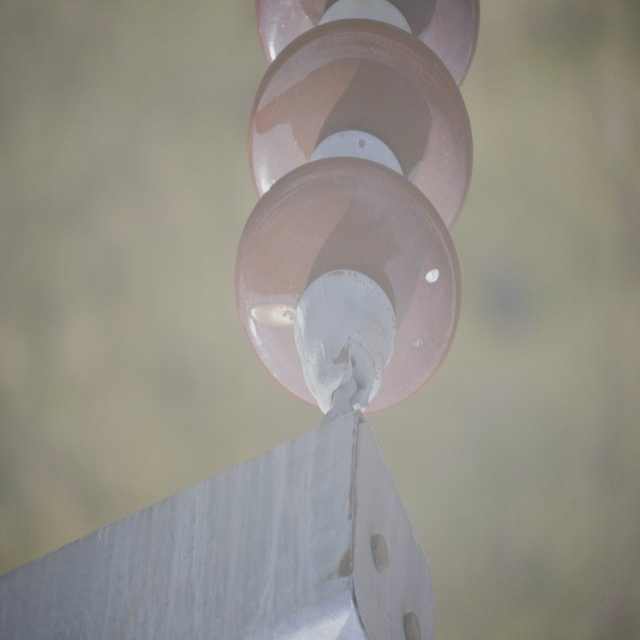insulator: (235, 0, 478, 418)
